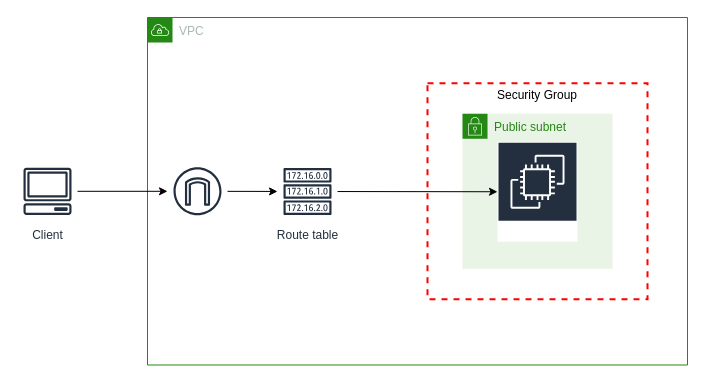
Image size: 705x383. Some labels were removed from this diagram. Here are the shapes that lost their labels. From the top down, the centre of each, then its label:
At pixel 197 190: "Internet gateway".
At pixel 537 191: "Amazon EC2".
